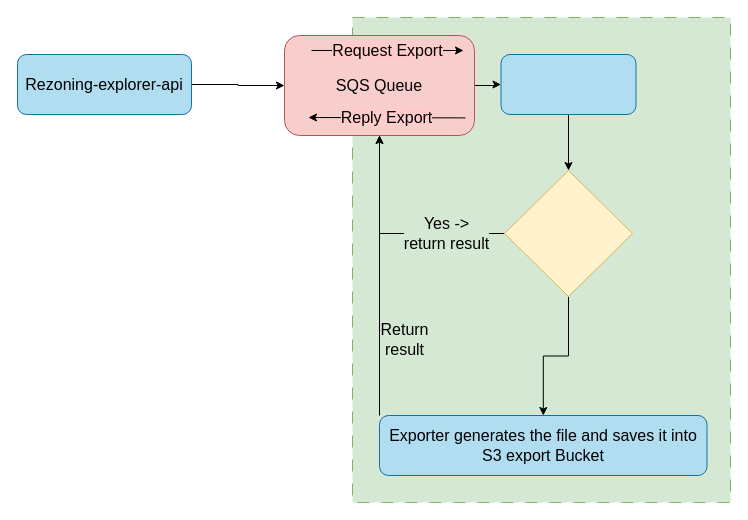
Image size: 748x520. Some labels were removed from this diagram. Each missing label, with the centre of its shape:
Export: point (568, 84)
Found result in S3 export bucket: point (568, 233)
